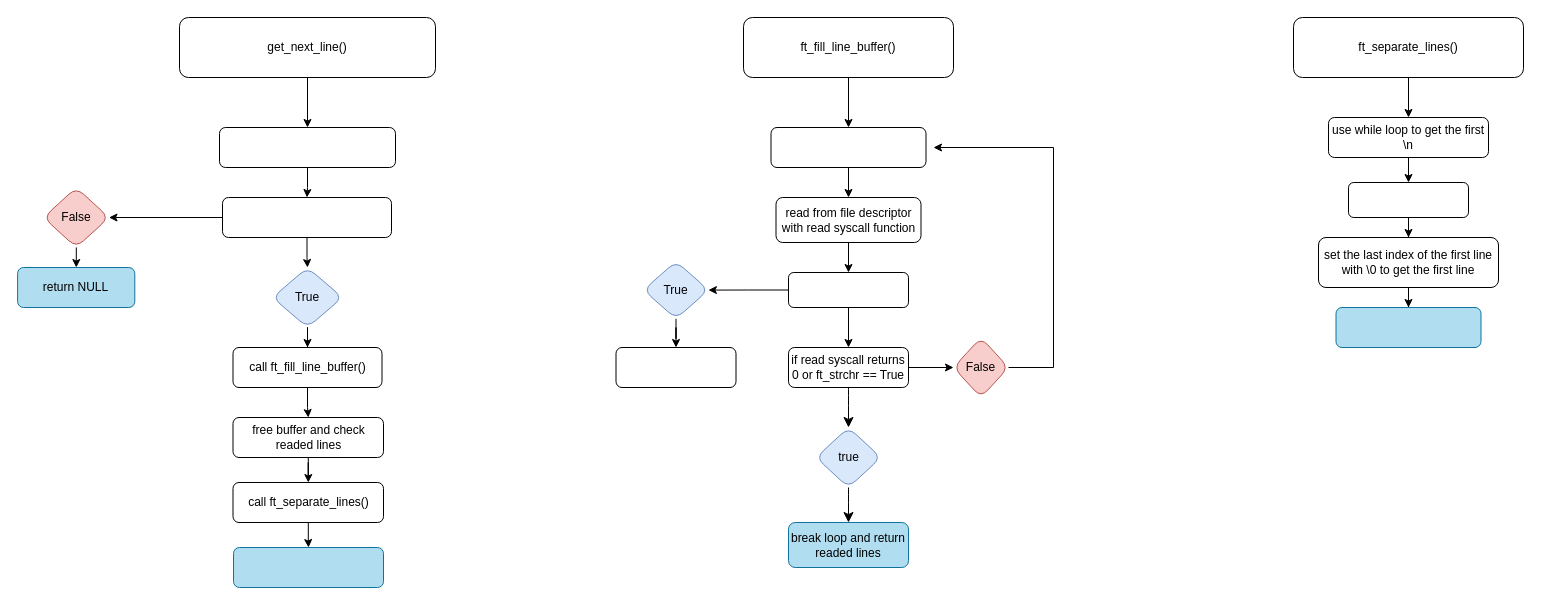
Image size: 1541x605. Some labels were removed from this diagram. The shapes that lost their labels are listed below. From the top down, each one's centre as x and y in pixels, then its label:
point 307,147: initialize static variable
point 848,147: while (true)
point 307,217: check for file descriptor and buffer size
point 1408,200: call ft_substr() to get the remain lines
point 848,290: if read syscall returns -1
point 1408,327: return remain_lines
point 675,367: free static variable and return NULL
point 308,567: store remains in static buffer and return first line
